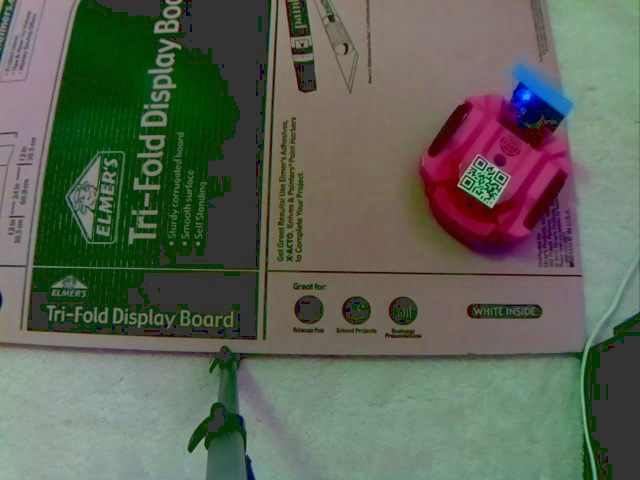board: (503, 65, 575, 135)
chassis: (419, 60, 575, 251)
